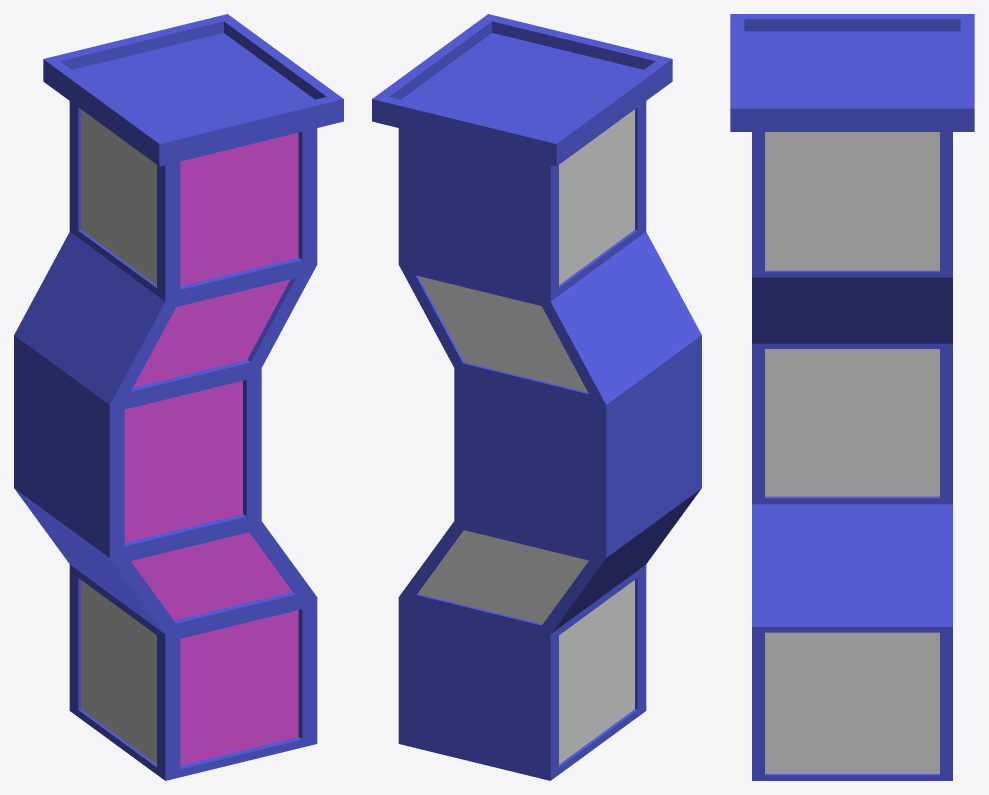
Rendered from Batiment_TestLight.fbx.
3 renders of one model, left to right at view 1: azimuth 30°, elevation 25°; view 2: azimuth 150°, elevation 25°; view 3: azimuth 270°, elevation 25°, orthographic. The views are drawn at different scales.
Parts seen in each view (by area): view 1: Bat, Light; view 2: Bat, Light; view 3: Bat, Light.
Boxes of the visible parts, x1,y1,x2,y2 form: Bat: (14, 14, 343, 780); Light: (81, 109, 156, 764); Bat: (372, 14, 701, 780); Light: (417, 109, 634, 764); Bat: (730, 14, 974, 780); Light: (765, 132, 939, 773).
Size of the model in its own units: 376 by 1040 by 338.
